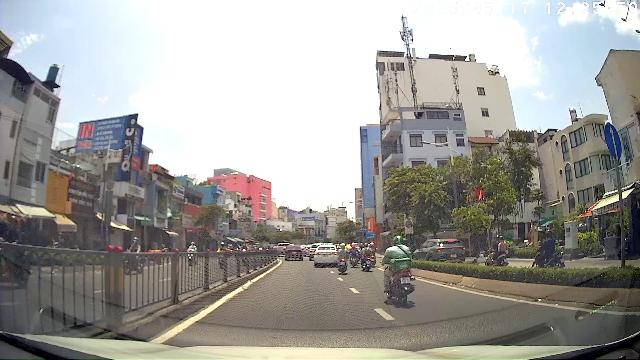301a-cac-xe-chi-duoc-di-thang: (604, 122, 622, 160)
